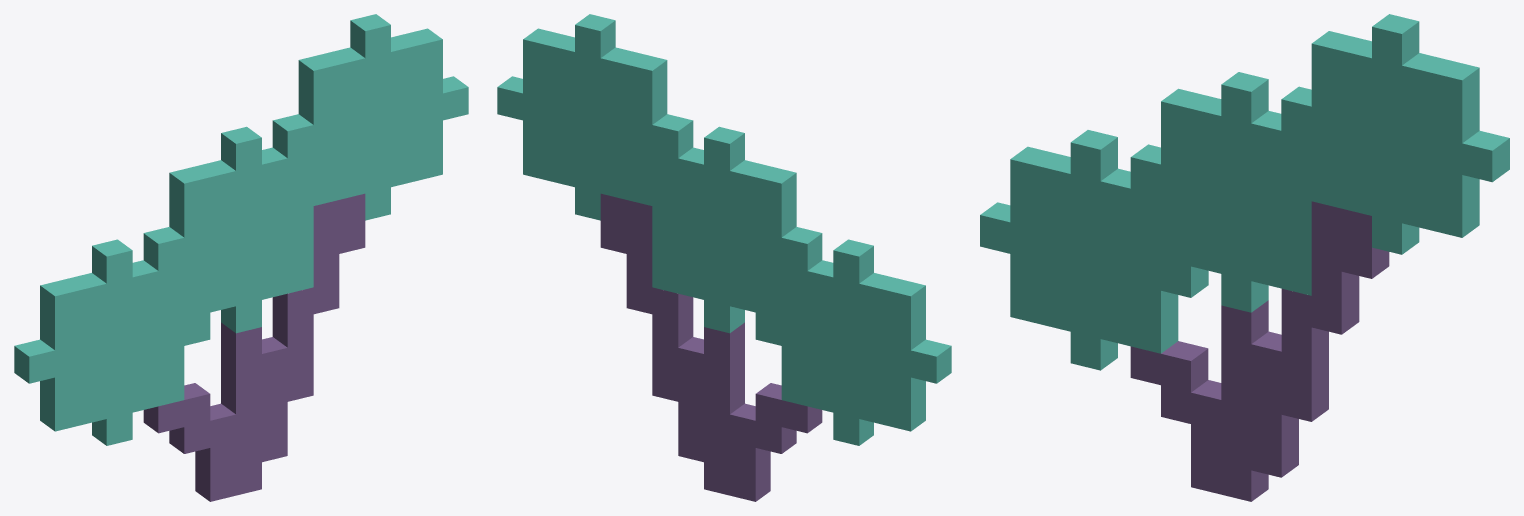
The model's file is alien-biosphere-lens-leaf-d16931b6__22697.glb.
3 renders of one model, left to right at view 1: azimuth 30°, elevation 25°; view 2: azimuth 150°, elevation 25°; view 3: azimuth 330°, elevation 25°, orthographic. The views are drawn at different scales.
Visible parts, largest first — view 1: lens-leaf; view 2: lens-leaf; view 3: lens-leaf.
Boxes of the visible parts, <box> form: lens-leaf: <box>14,14,468,501</box>; lens-leaf: <box>497,14,951,501</box>; lens-leaf: <box>980,14,1509,501</box>.
Size of the model in its own units: 2.38 by 2.24 by 0.14.
